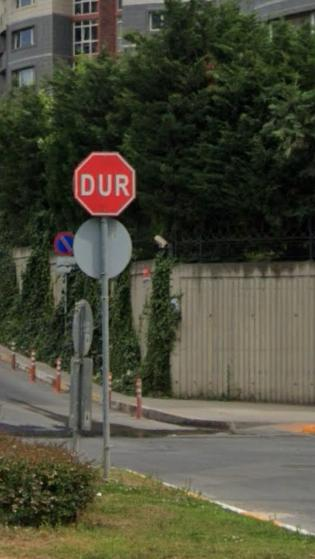stop: (74, 152, 136, 216)
